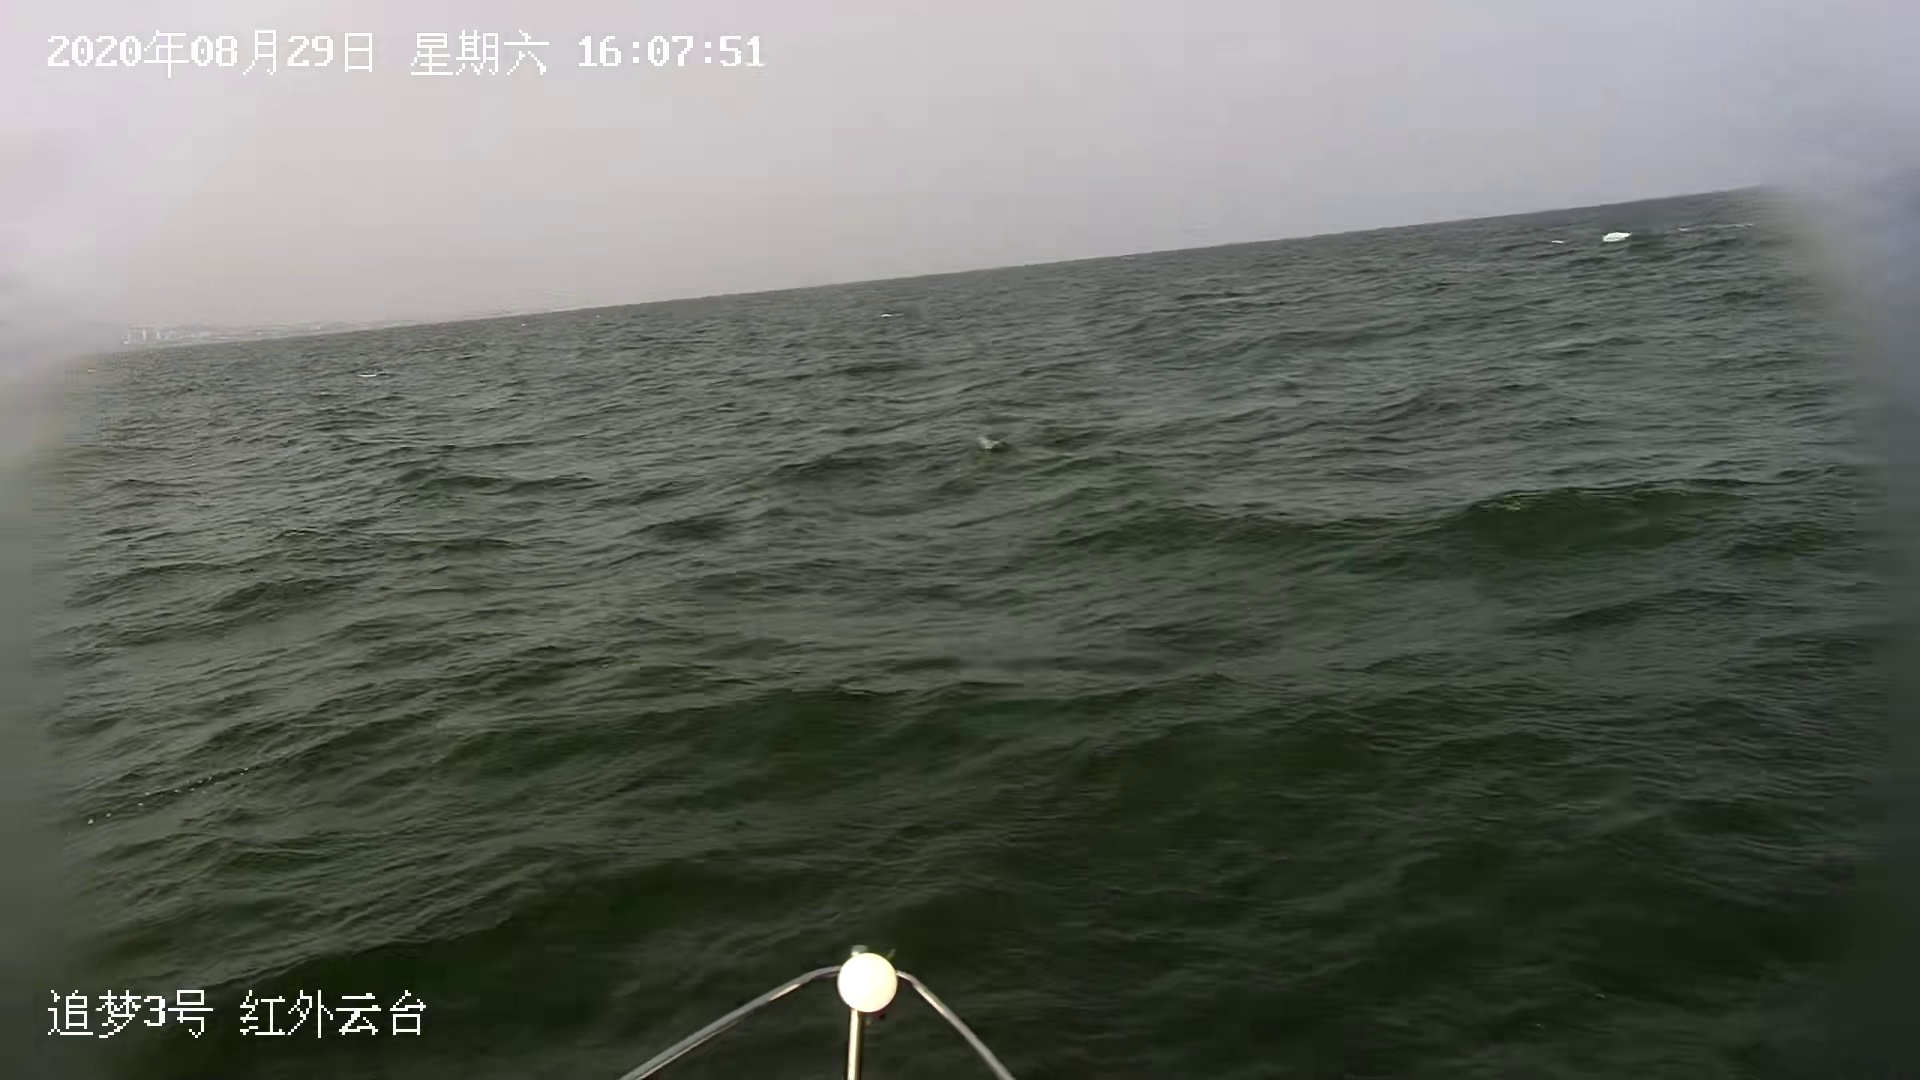coast: (22, 301, 542, 345)
